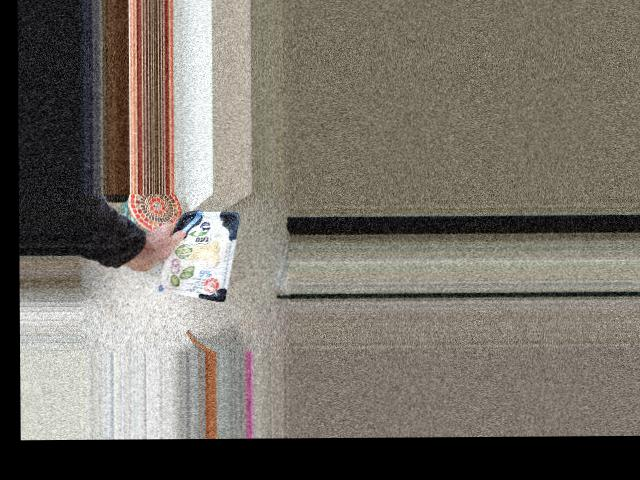cheese: (145, 225, 216, 293)
